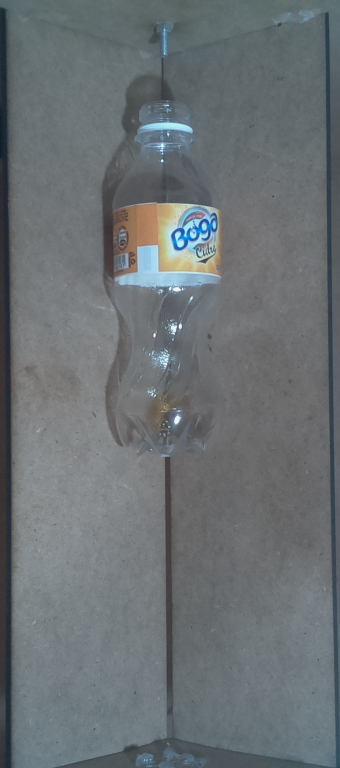Bouteille_0.3L: (101, 93, 230, 457)
